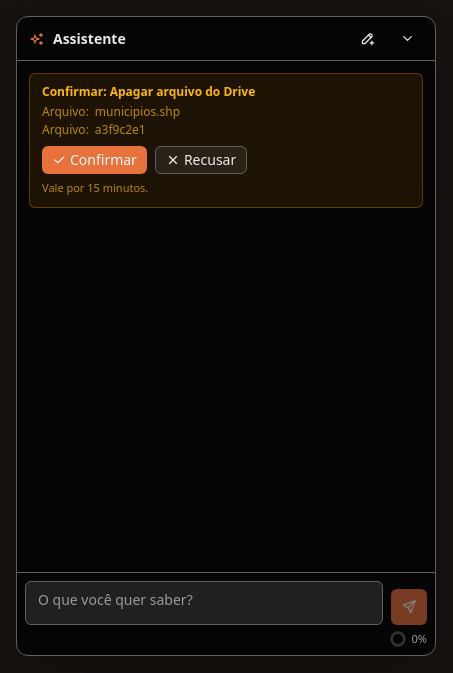
Test: Painel do assistente › 409 NÃO destrava: a chave já foi consumida, e o cartão explica isso
Click the button "Confirmar": {"x": 94, "y": 160} [42, 146, 147, 174]
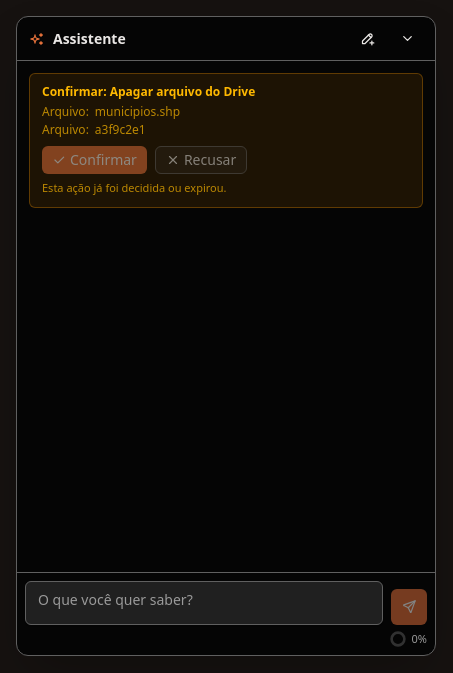
Expected: the button "Confirmar" is disabled, [42, 146, 147, 174]
Expected: the text "Esta ação já foi decidida ou expirou." is shown, [42, 180, 226, 195]
